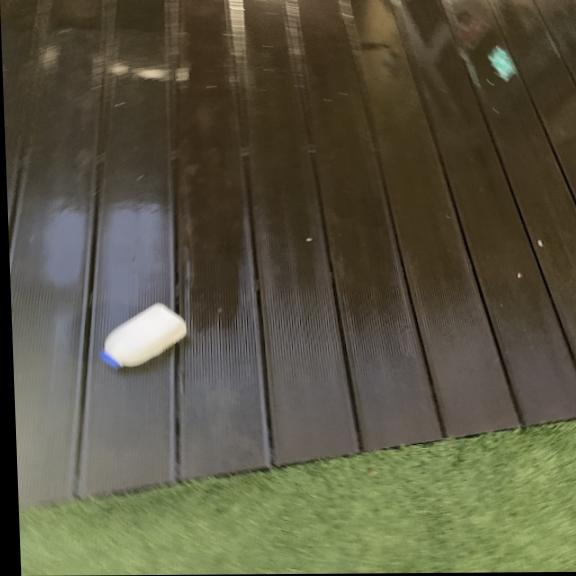Plastik: (99, 301, 193, 373)
